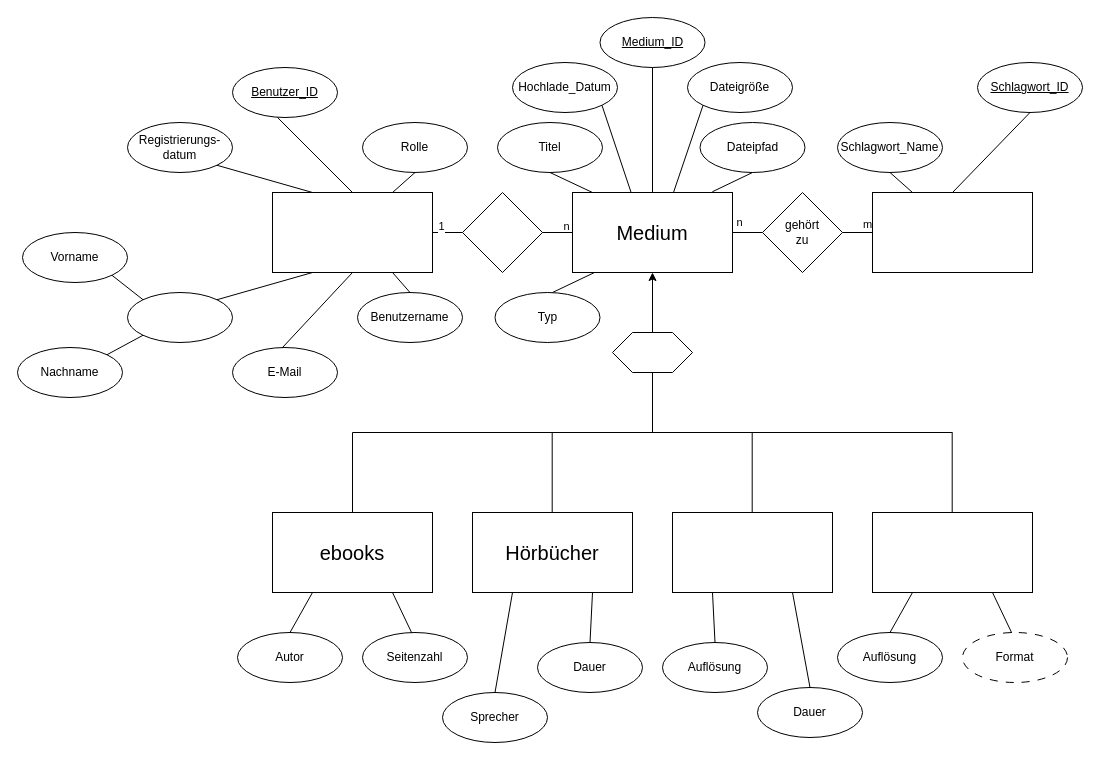
The diagram is 1100 pixels wide and 760 high, and some of its shapes have lost their labels. The centre of each missing label's shape, as x and y in pixels:
"Benutzer" goes at (x=352, y=232).
"Fotos" goes at (x=952, y=552).
"interagiert mit" goes at (x=502, y=232).
"IS-A" goes at (x=652, y=352).
"Name" goes at (x=179, y=317).
"Schlagwort" goes at (x=952, y=232).
"Videos" goes at (x=752, y=552).
